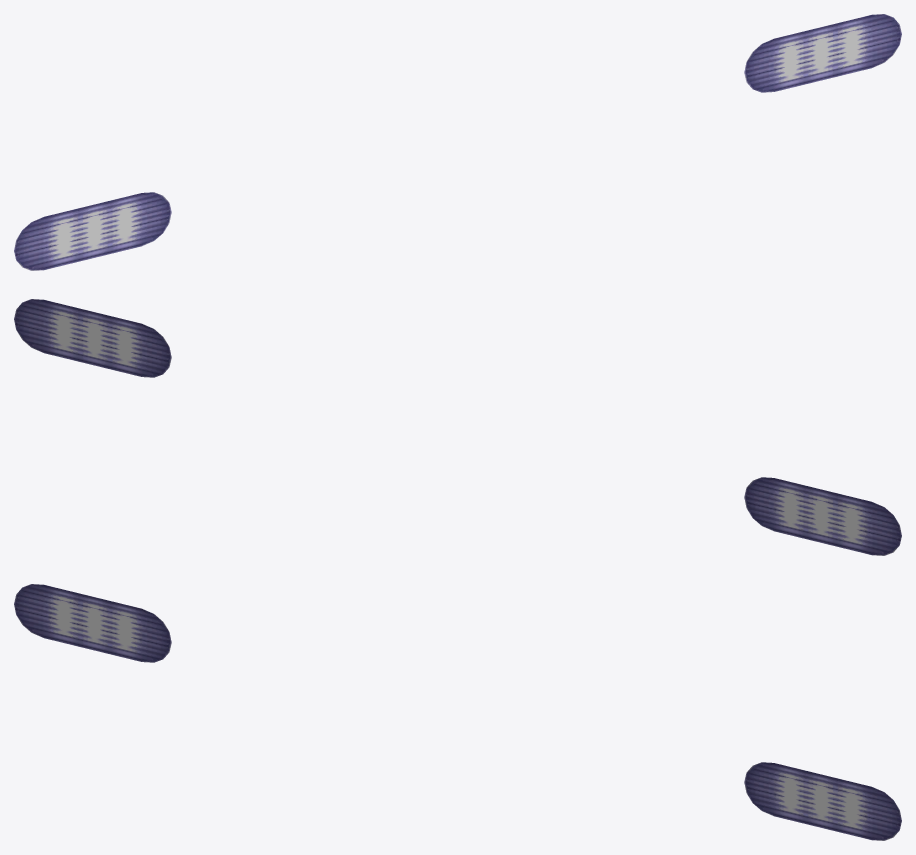
Rendered from yt1300_booster_s01_on_l0.fbx.
The picture shows the model from 3 angles, top to bottom: view 1: azimuth 30°, elevation 25°; view 2: azimuth 150°, elevation 25°; view 3: azimuth 330°, elevation 25°; orthographic projection.
Visible parts, largest first — view 1: mesh_node; view 2: mesh_node; view 3: mesh_node.
Boxes of the visible parts, bbox=[...] form: mesh_node: bbox=[14, 14, 901, 270]; mesh_node: bbox=[14, 299, 901, 555]; mesh_node: bbox=[14, 584, 901, 840].
Bounding box in the file's own units: 10.09 × 0.58 × 0.
Materials: 1 (1 with a texture image).
